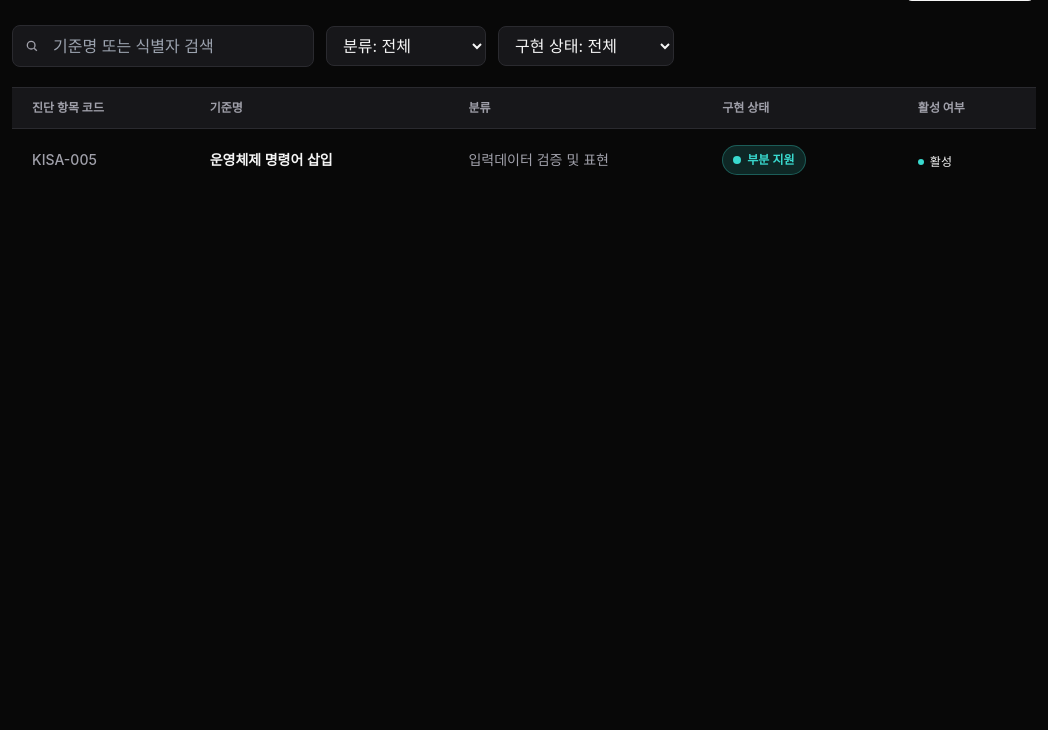
E6 results and catalog pages › keeps the catalog list visible beside the selected inspection panel
Click the text "운영체제 명령어 삽입" at (271, 160), box top-left (210, 151), bottom-right (333, 168)
(page scrolled)
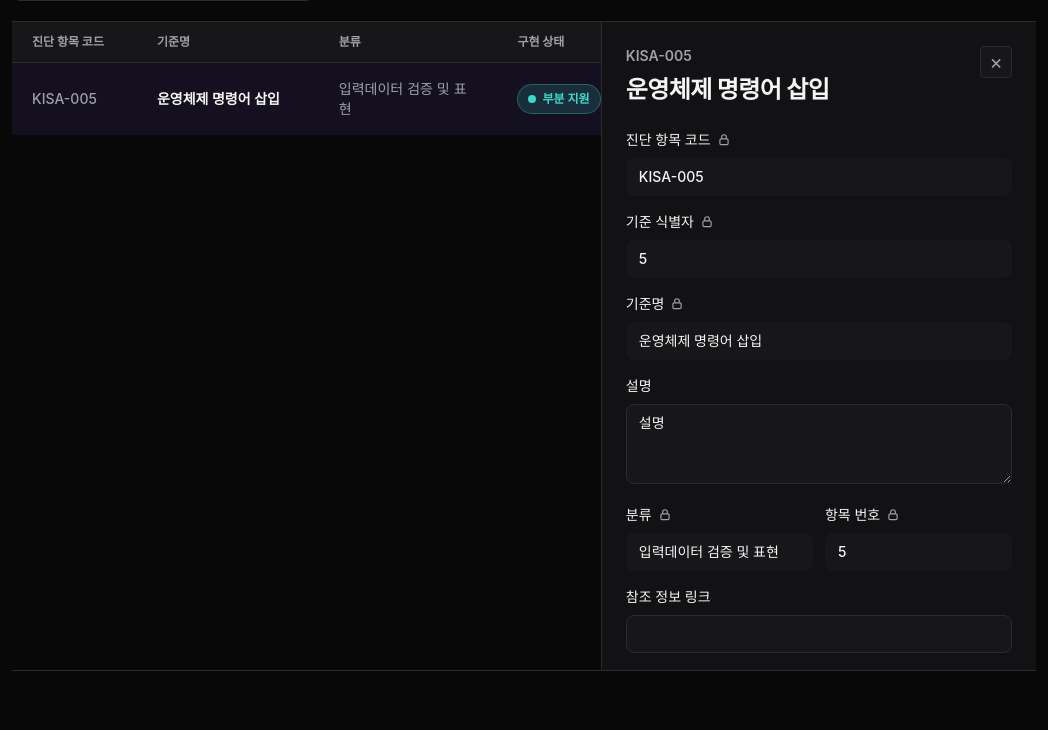
expect the element with test id "catalog-list" is shown: met, box top-left (12, 22), bottom-right (732, 135)
expect the element named "카탈로그 상세" is shown: met, box top-left (601, 22), bottom-right (1036, 670)
